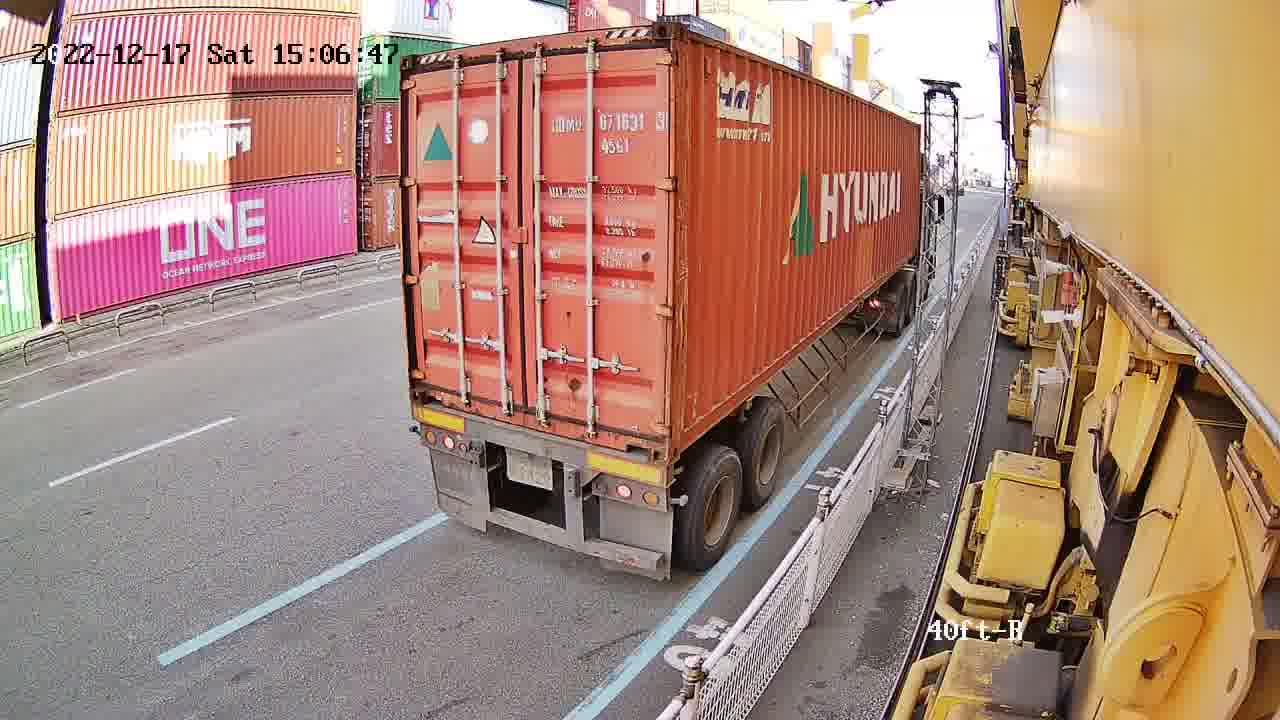Chassis: (411, 406, 666, 487)
Cone: (666, 466, 683, 487)
Hole_L: (670, 398, 699, 468), (406, 364, 447, 409)
Hole_R: (620, 410, 667, 467)
Tire: (691, 459, 744, 566), (744, 402, 788, 499)
